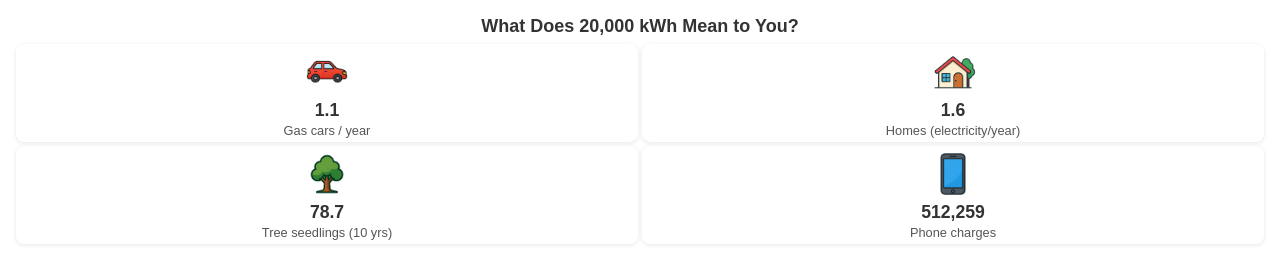
Test: EnergyQuadrants › shows expanded view when quadrant is clicked
Click the element showing "1.1 Gas cars / year".
click(327, 93)  # box [16,44,638,142]
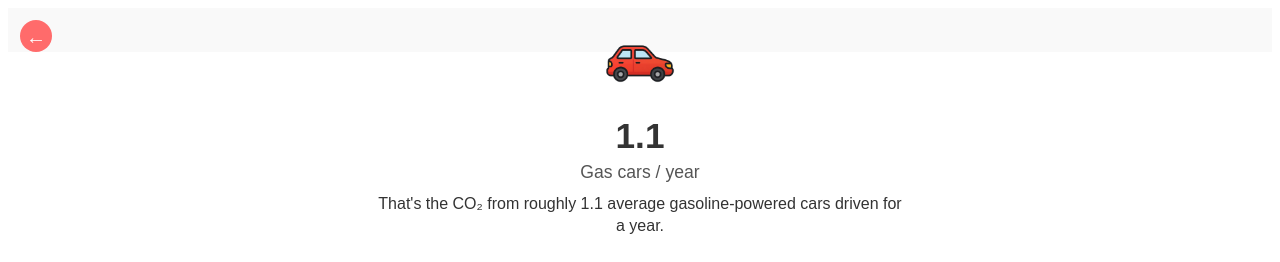
Result: the element with class "expanded" is shown at [8,8,1272,52]
Result: the button with class "back-btn" is shown at [20,20,52,52]
